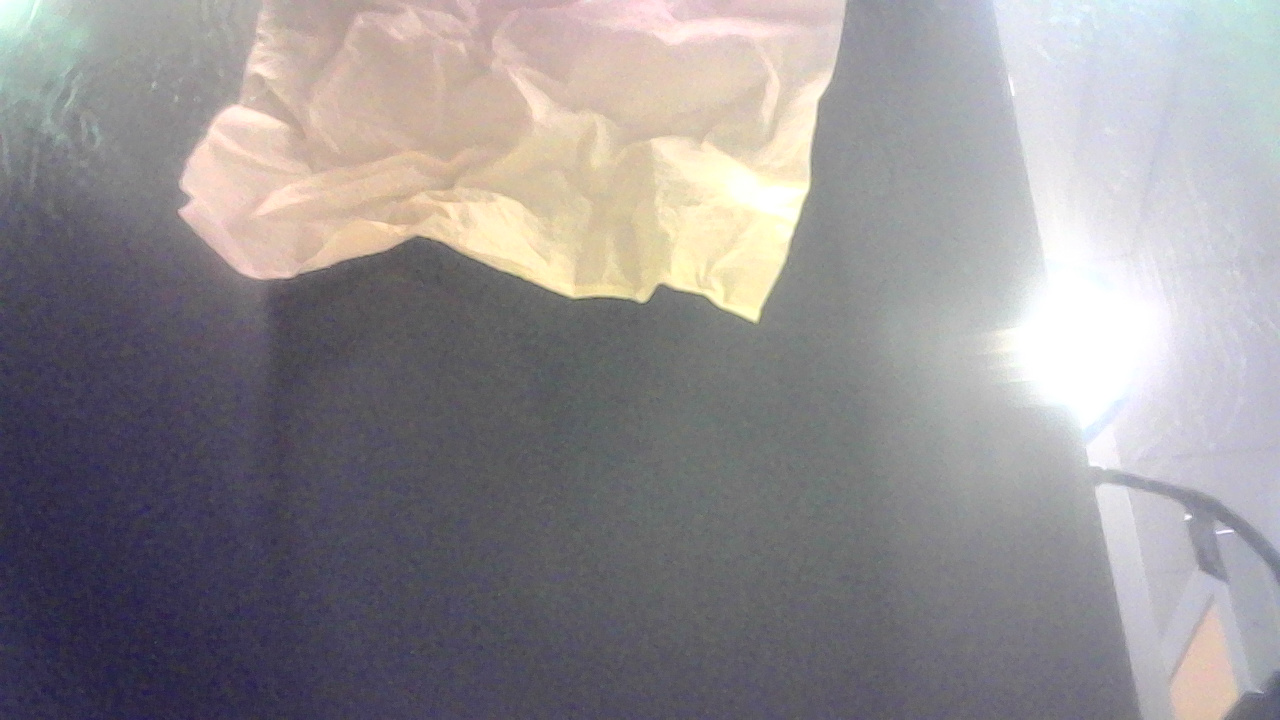Paper_Recycling: (115, 5, 971, 326)
